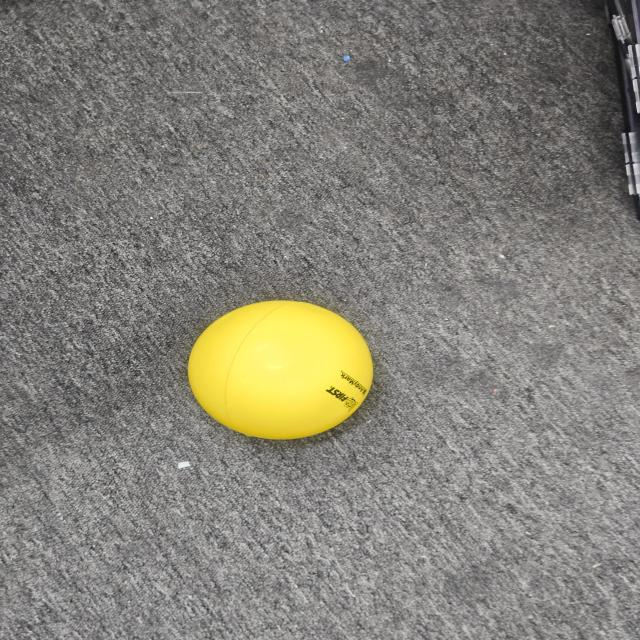Fuel: (178, 297, 389, 445)
